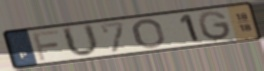1: (178, 13, 201, 43)
7: (99, 21, 127, 54)
F: (30, 29, 62, 62)
G: (197, 10, 234, 42)
O: (131, 18, 168, 50)
U: (59, 22, 102, 58)
